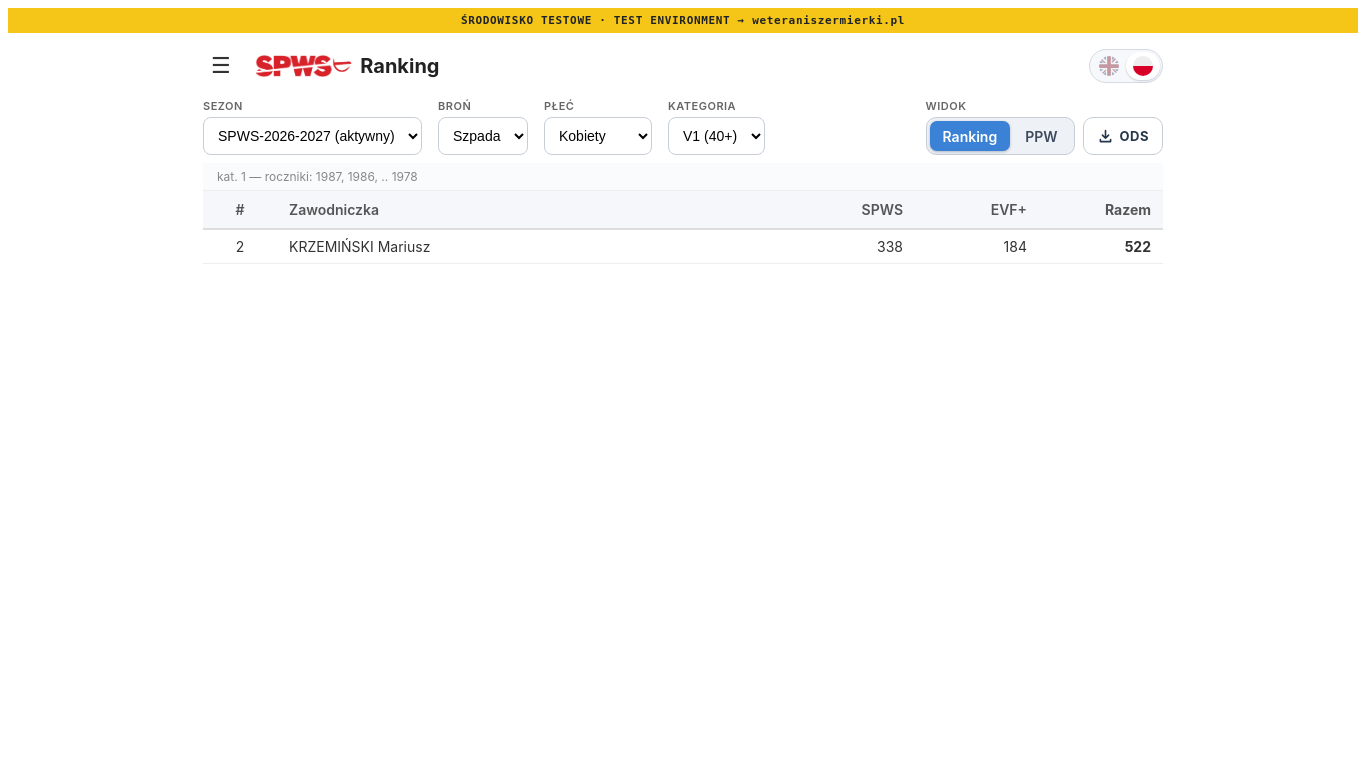
DD.MODE.02 — the drilldown switch switches the page too › switching the modal to PPW reloads the PPW list and shows the PPW rank
Click the row with class "data-row" at (683, 247), box [203,229,1163,264]
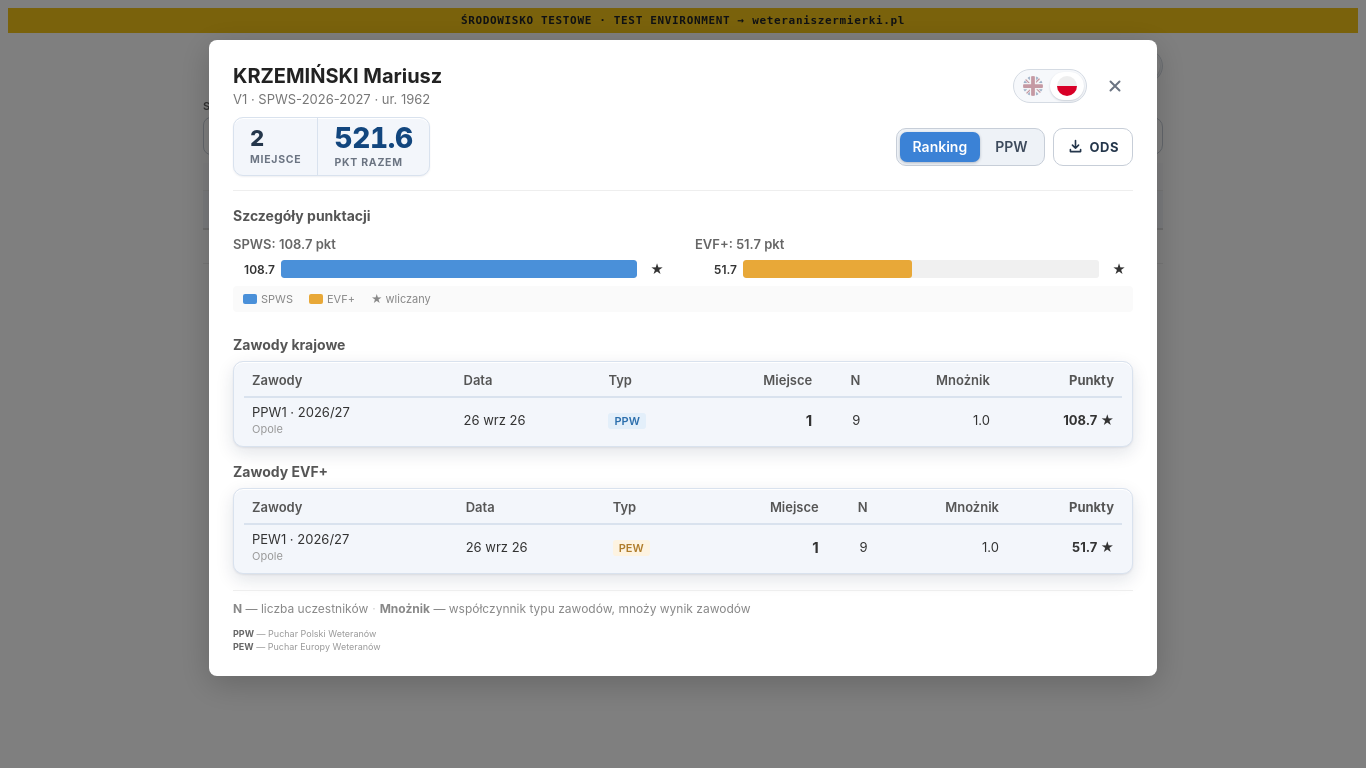
Expected: the text "2" is shown, [250,125,264,151]
Click the button with class "toggle-btn" showing "PPW" at (1011, 147), box [982,132,1040,162]
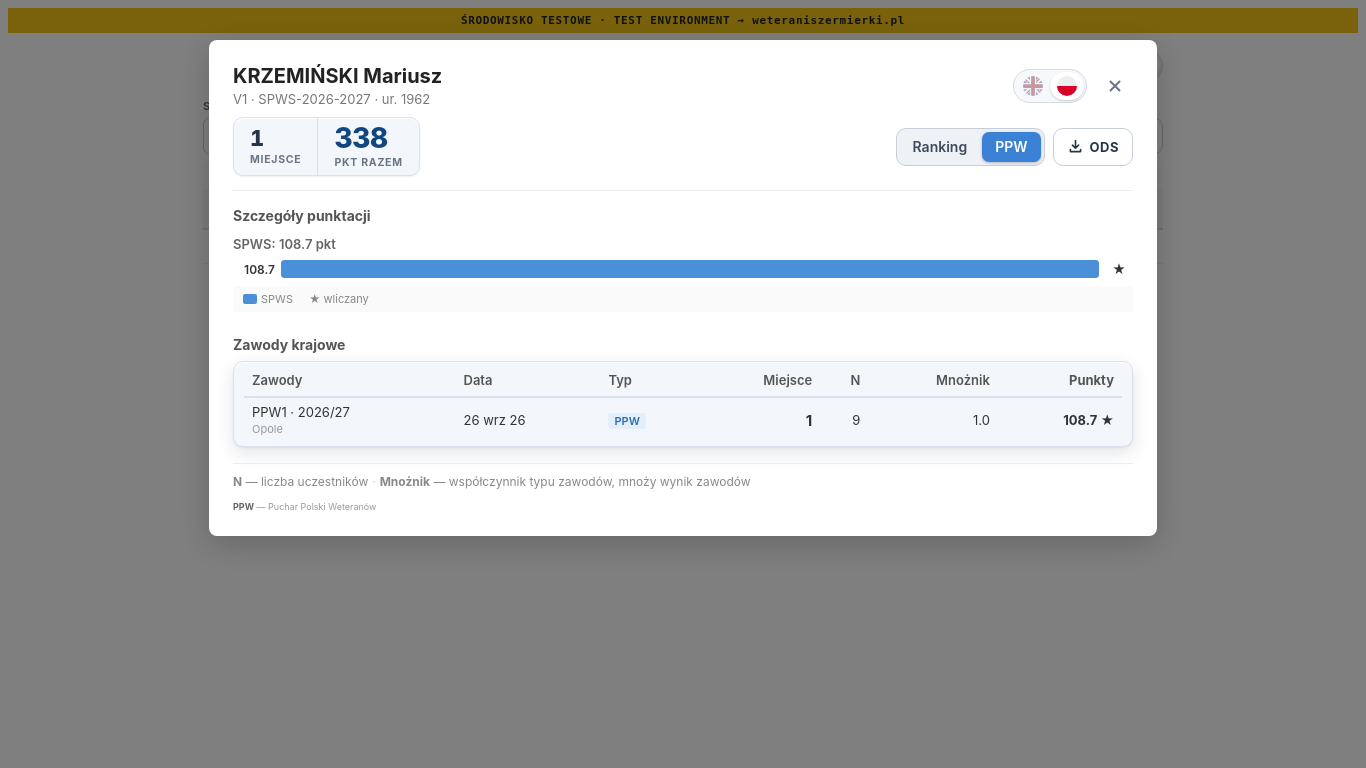
Expected: the element with class "modal-overlay" is shown
Expected: the text "1" is shown, [250,125,264,151]
Expected: the text "338" is shown, [334,121,388,155]
